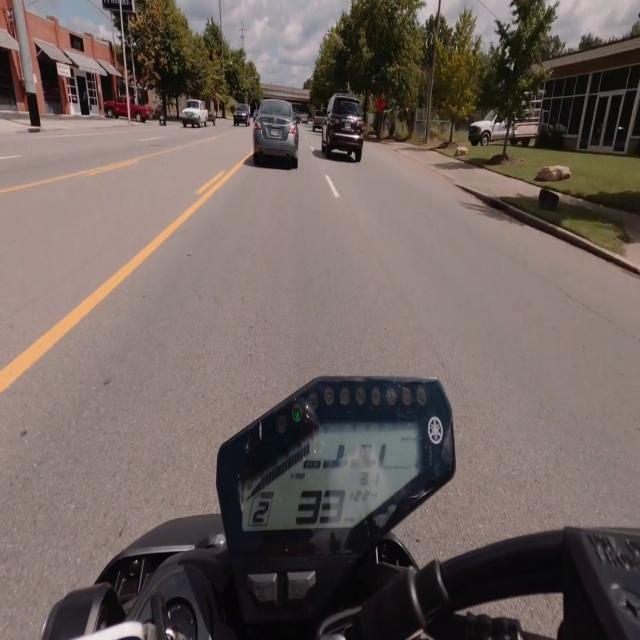car: (253, 99, 298, 168), (322, 94, 364, 162), (181, 99, 208, 127), (234, 104, 250, 126), (313, 110, 324, 131)
motorcycle: (42, 378, 639, 639)
